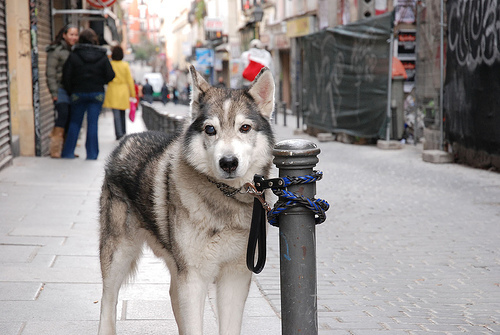dog: (92, 65, 277, 334)
